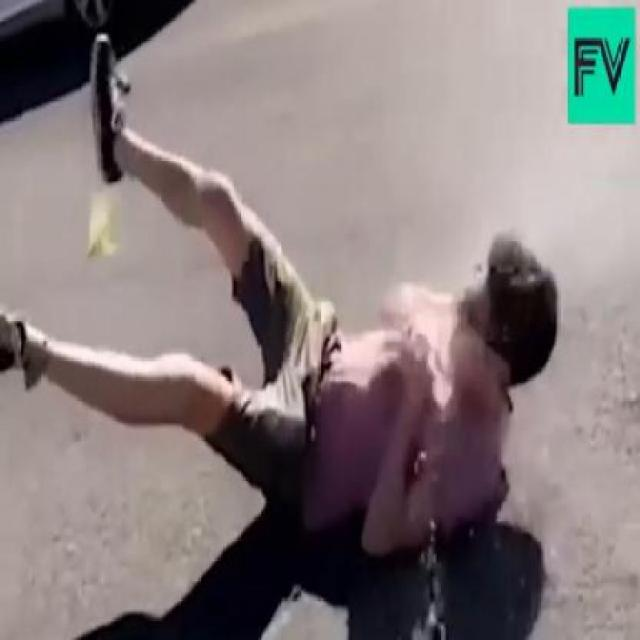fall: (0, 35, 560, 567)
